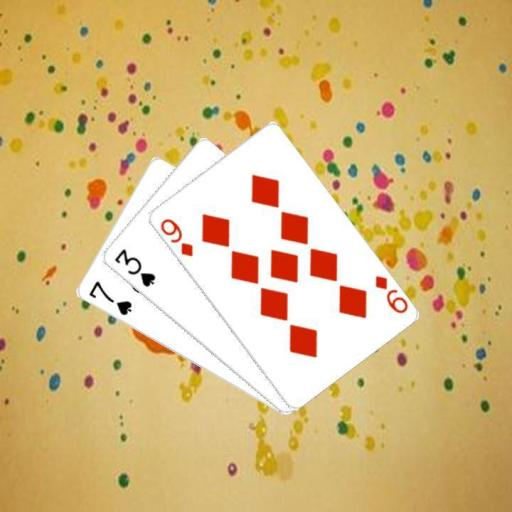card-corner: (111, 245, 157, 289), (85, 278, 133, 317), (156, 215, 195, 258), (371, 272, 409, 315)
